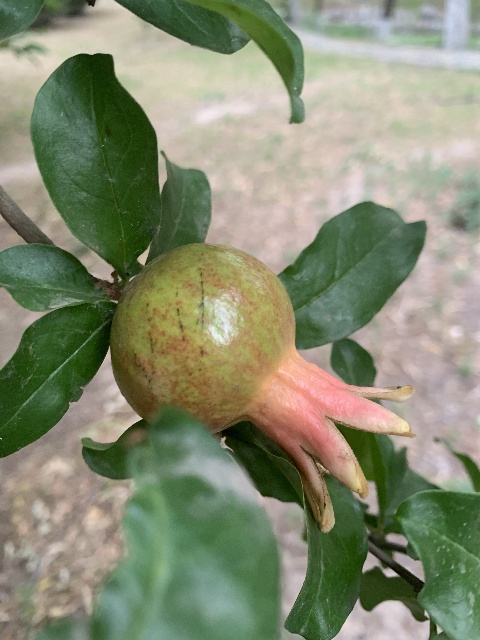early-fruit: (113, 240, 413, 531)
